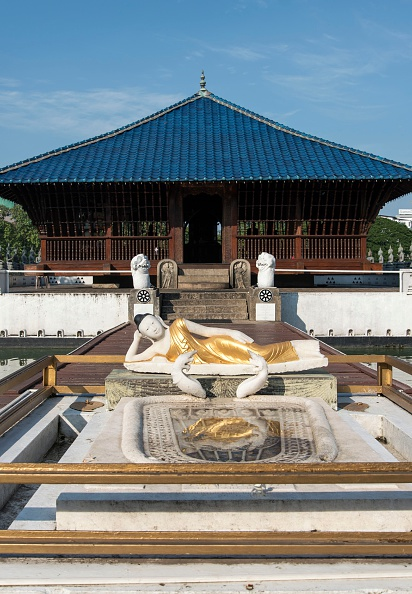deitado: (113, 245, 174, 360)
